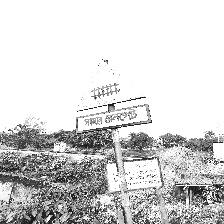Rail-crossing: (76, 95, 154, 223), (75, 61, 151, 135)
